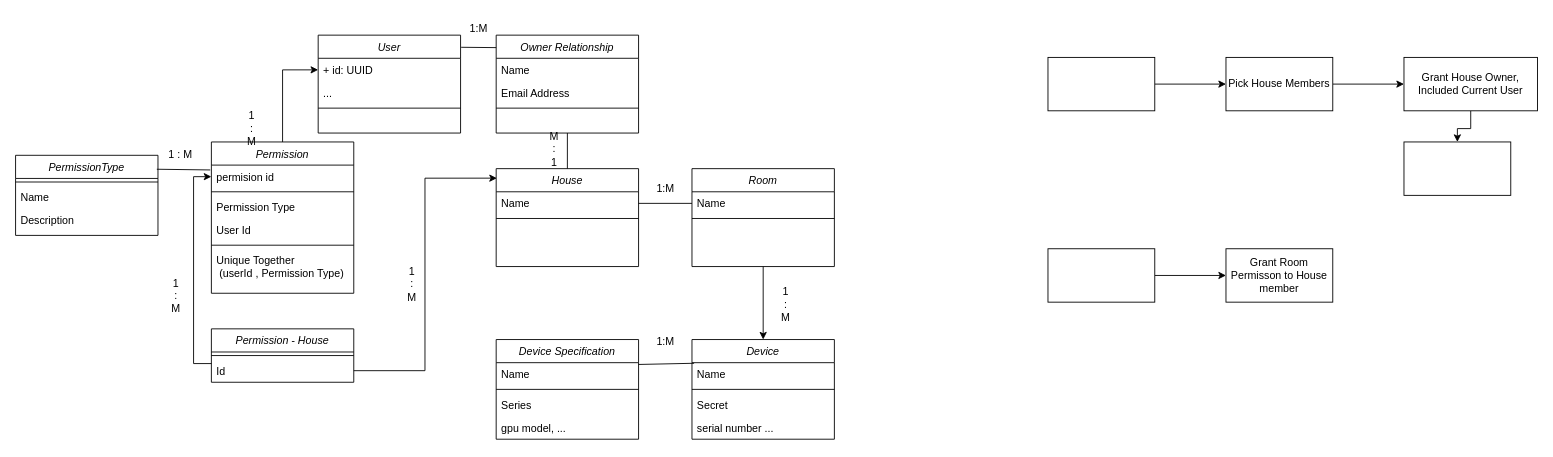
Image size: 1553x457. Some labels were removed from this diagram. The shapes that lost their labels are listed below. From the top down, each one's centre as x and y in pixels, then its label:
At pixel 1101 84: "Create House".
At pixel 1457 168: "House created".
At pixel 1101 275: "Pick Room".
